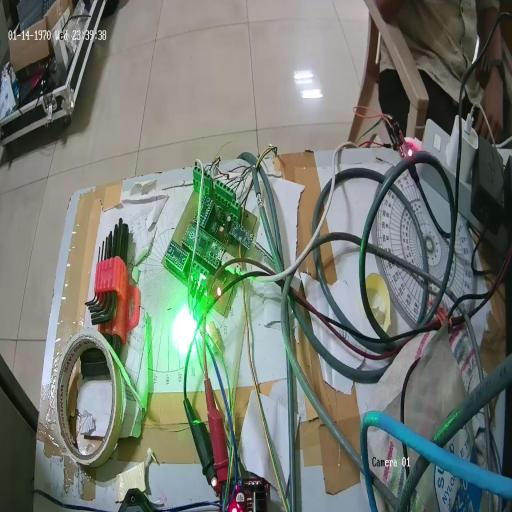laser: (167, 294, 214, 366)
